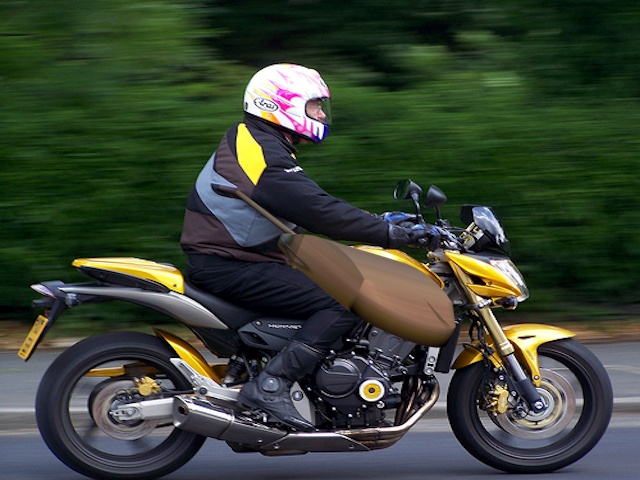mouse: (225, 177, 464, 352)
